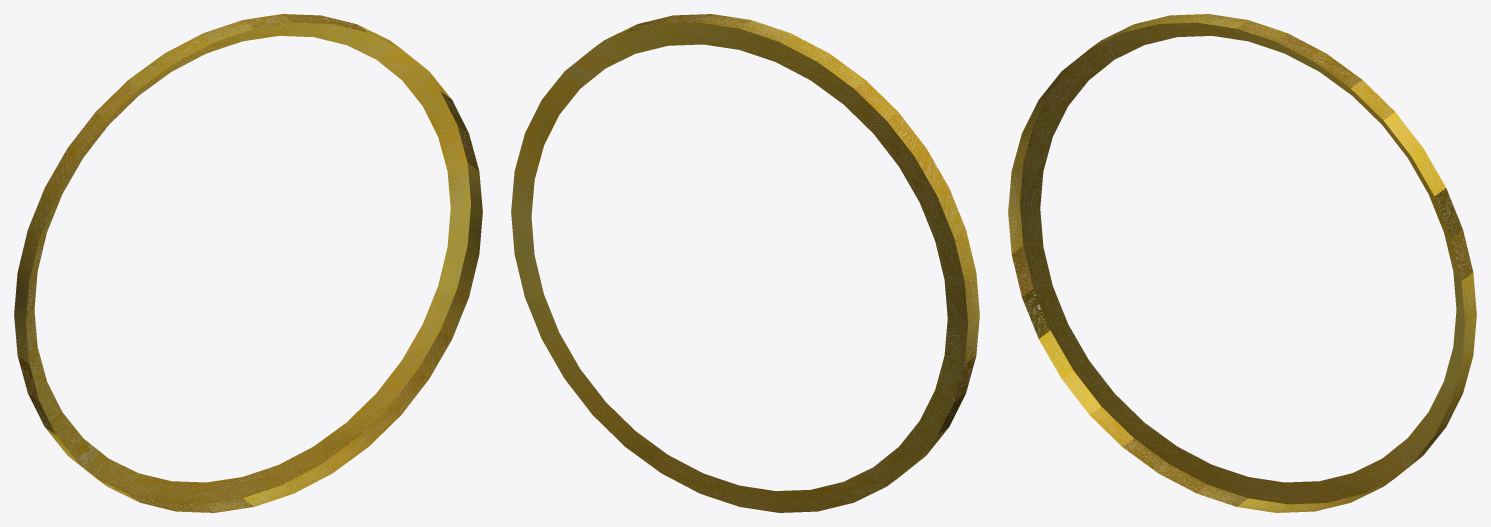
File: original-27.obj
3 views of the same model, side by side, from view 1: azimuth 30°, elevation 25°; view 2: azimuth 150°, elevation 25°; view 3: azimuth 330°, elevation 25° (orthographic).
Visible parts, largest first — view 1: #ID367; view 2: #ID367; view 3: #ID367.
Part boxes in pixels (left/top/right/bottom): #ID367: left=14, top=14, right=482, bottom=512; #ID367: left=511, top=14, right=979, bottom=512; #ID367: left=1008, top=14, right=1476, bottom=512.
Bounding box in the file's own units: 0.0382 × 0.0382 × 0.0017.
